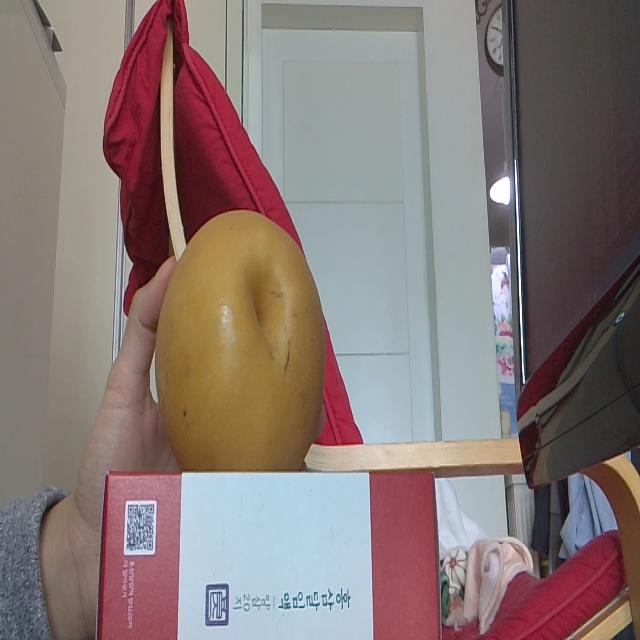pear: (154, 208, 325, 471)
